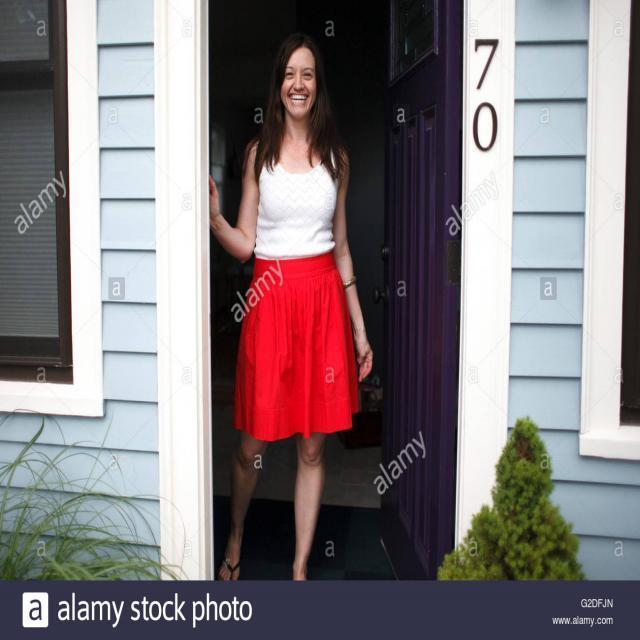walking: (198, 10, 390, 582)
